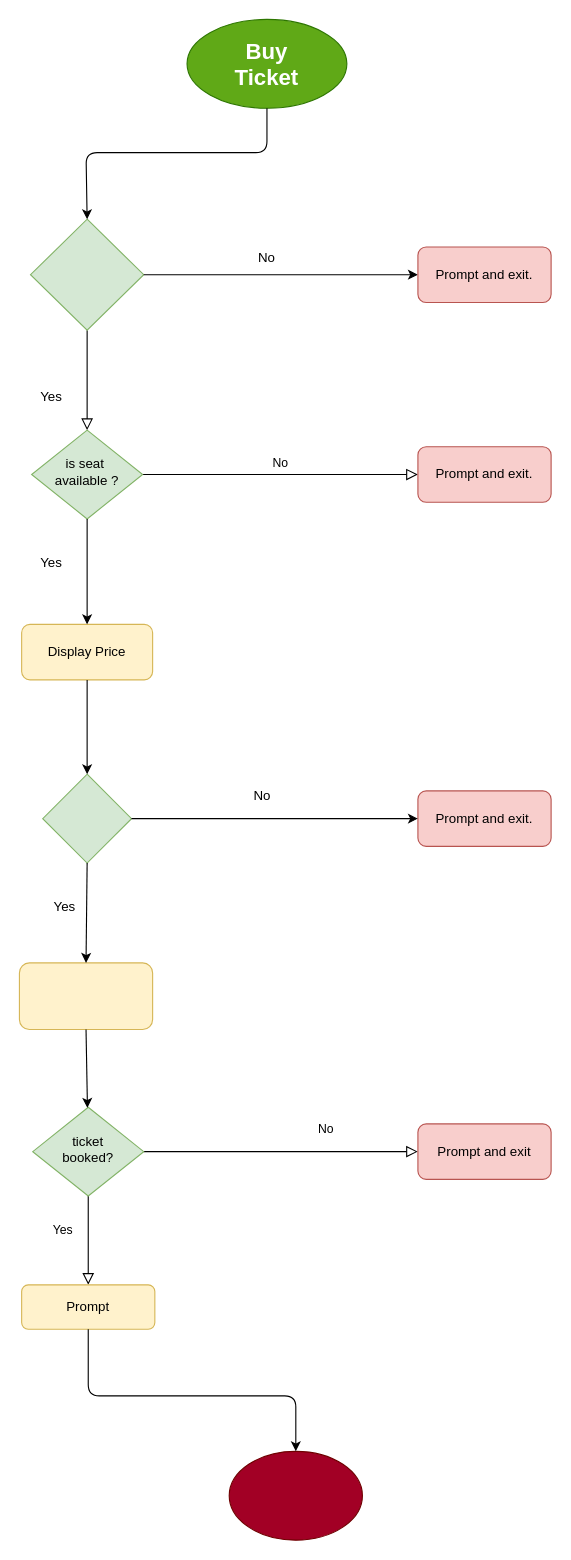
This 571x1560 diagram has some shape labels left out. The shapes that lost their labels are listed below. From the top down, each one's box as (x1, y1, x2, y2) in pixels, then its label:
(29, 218, 144, 330): is seat valid ?
(42, 773, 132, 863): want to book?
(18, 962, 153, 1030): Enter deatils
(228, 1450, 362, 1540): END
